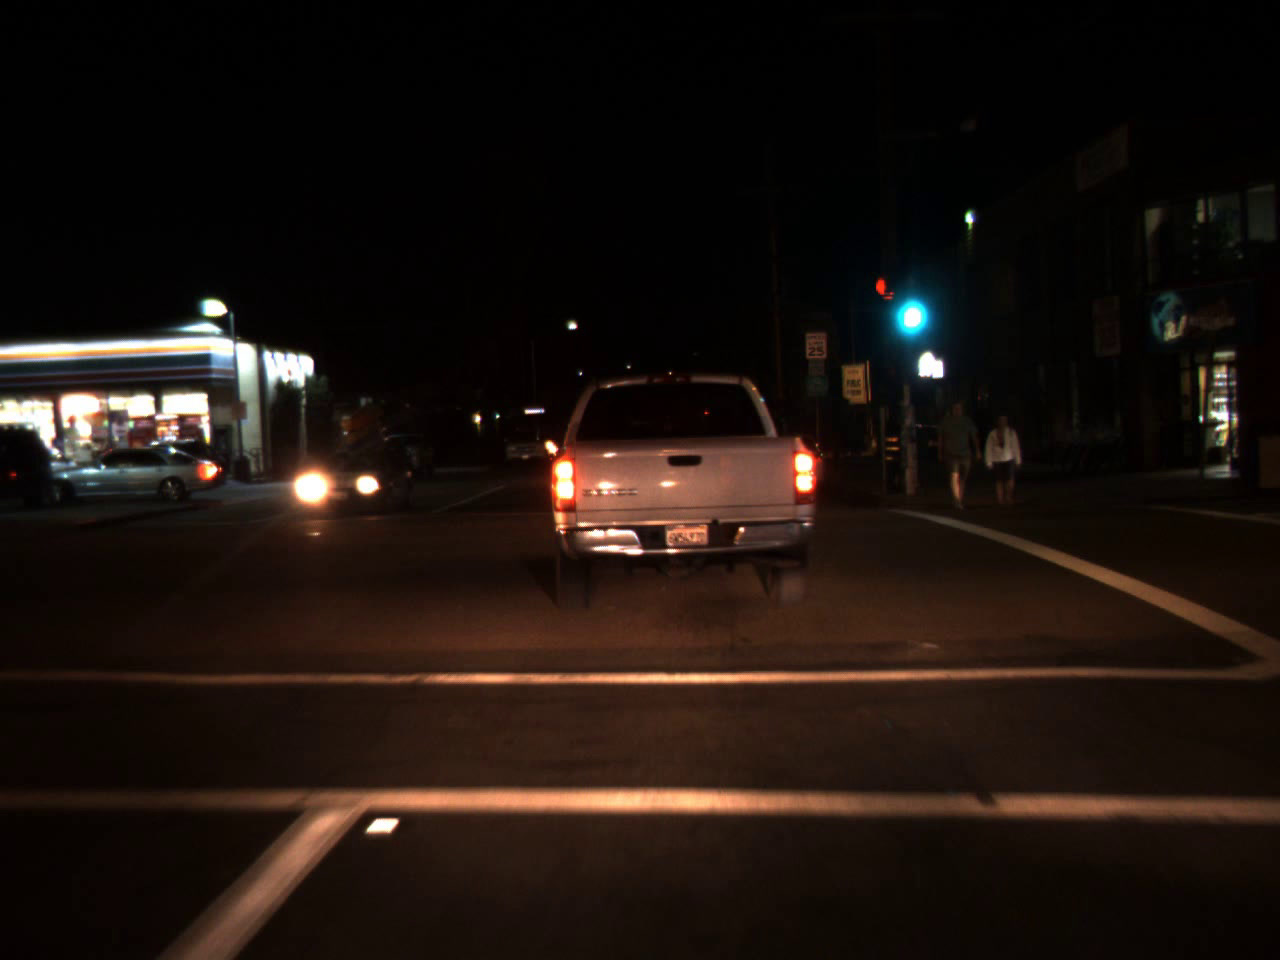go: (885, 264, 930, 342)
